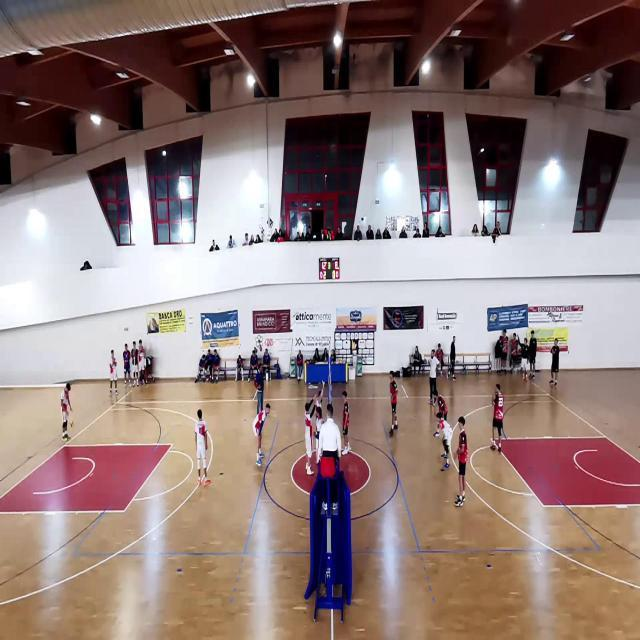volleyball: (68, 420, 74, 430)
